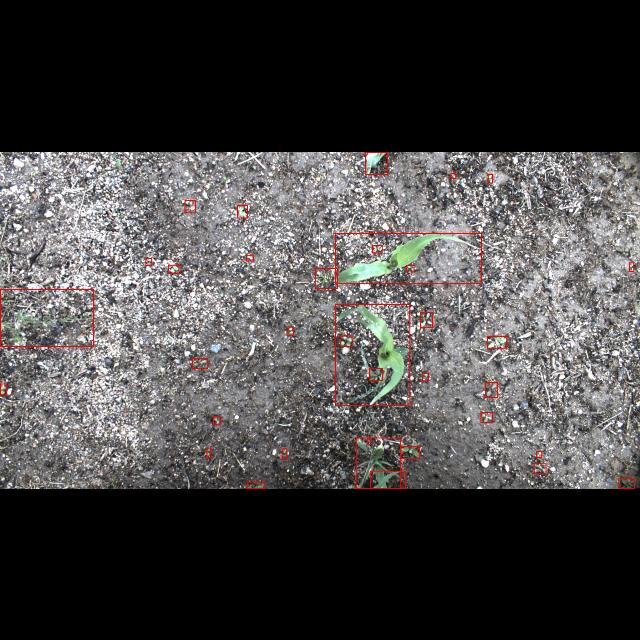crop: (335, 232, 481, 284), (336, 304, 410, 404), (356, 438, 400, 488), (370, 470, 406, 488), (365, 151, 387, 173)
weed: (0, 288, 94, 346), (314, 268, 338, 288), (400, 446, 420, 458), (487, 335, 507, 347), (421, 311, 433, 327), (486, 382, 498, 398), (618, 478, 634, 488), (192, 358, 208, 368), (370, 368, 382, 380), (237, 205, 247, 218), (185, 199, 195, 211), (340, 335, 352, 345), (534, 463, 546, 473), (481, 412, 492, 422), (248, 482, 264, 488), (168, 264, 180, 272), (372, 244, 382, 252), (0, 384, 6, 394), (213, 416, 220, 424), (422, 373, 428, 381), (628, 262, 634, 270), (246, 254, 254, 260), (406, 265, 414, 271), (282, 448, 286, 459), (207, 448, 211, 458), (450, 172, 456, 178), (536, 451, 542, 457), (146, 258, 152, 264), (288, 326, 292, 334), (488, 174, 492, 182), (368, 440, 370, 444)
